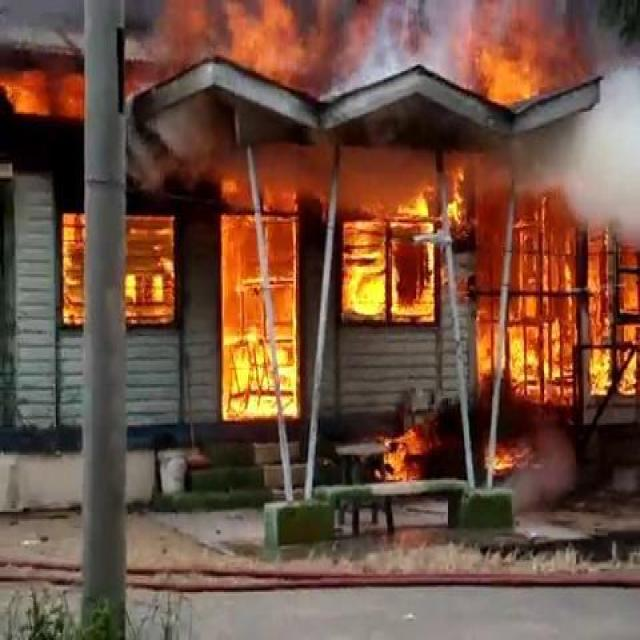fire: (134, 1, 593, 114), (477, 175, 635, 396), (328, 150, 469, 335), (211, 150, 304, 427), (54, 200, 181, 334), (364, 410, 540, 489), (4, 46, 88, 118)
